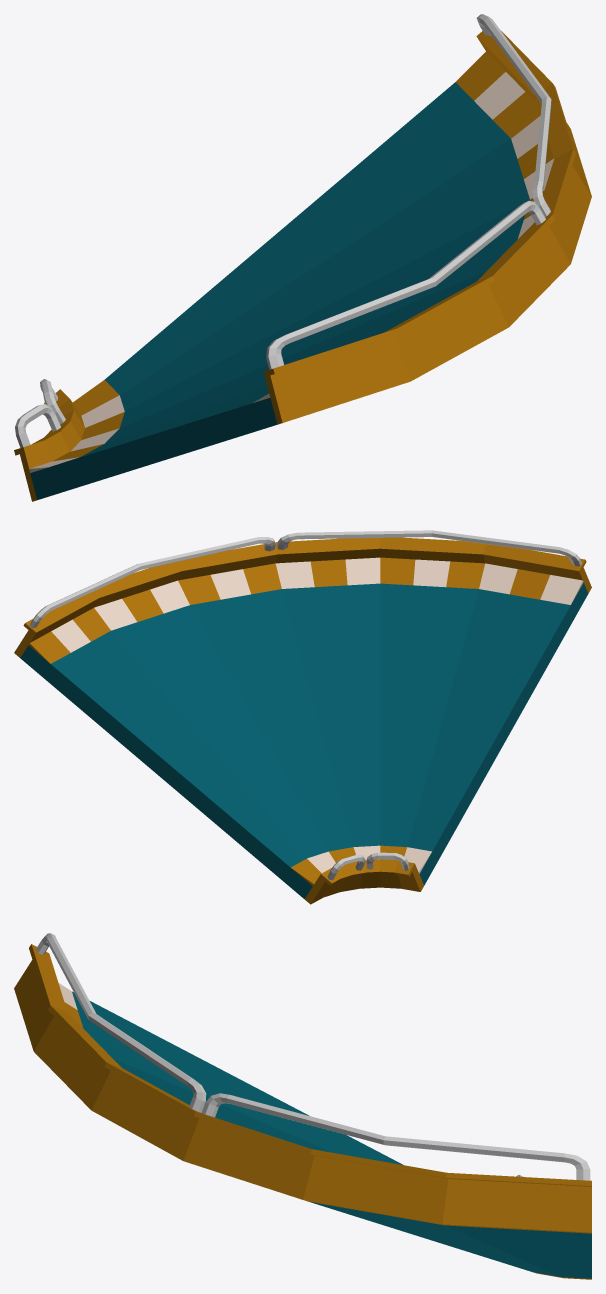
Rendered from bankedLeft-90-30_s.FBX.
3 views of the same model, one above another, from view 1: azimuth 30°, elevation 25°; view 2: azimuth 150°, elevation 25°; view 3: azimuth 270°, elevation 25° (orthographic). The views are drawn at different scales.
Visible parts, largest first — view 1: bankedLeft-90-30_s, wall_r, curbs_r, wall_l, curbs_l; view 2: bankedLeft-90-30_s, wall_r, curbs_r, wall_l, curbs_l; view 3: wall_r, bankedLeft-90-30_s.
Boxes of the visible parts, bbox=[...] form: bankedLeft-90-30_s: bbox=[30, 82, 529, 499]; wall_r: bbox=[264, 14, 591, 424]; curbs_r: bbox=[253, 52, 553, 402]; wall_l: bbox=[14, 379, 84, 501]; curbs_l: bbox=[29, 380, 124, 472]; bankedLeft-90-30_s: bbox=[20, 582, 588, 898]; wall_r: bbox=[14, 530, 591, 657]; curbs_r: bbox=[28, 557, 583, 663]; wall_l: bbox=[304, 852, 423, 904]; curbs_l: bbox=[291, 845, 431, 885]; wall_r: bbox=[14, 933, 591, 1233]; bankedLeft-90-30_s: bbox=[72, 991, 591, 1278].
Size of what is drawn, in the model's own units: 214 by 126 by 214.
